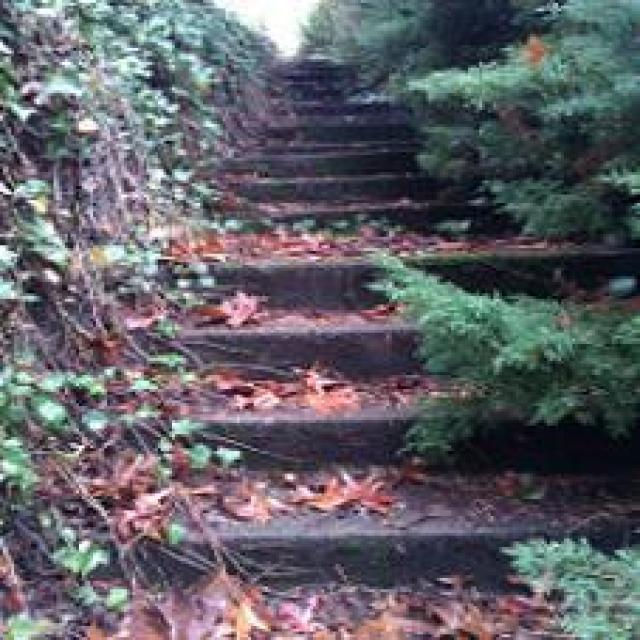upstair: (91, 241, 593, 571)
